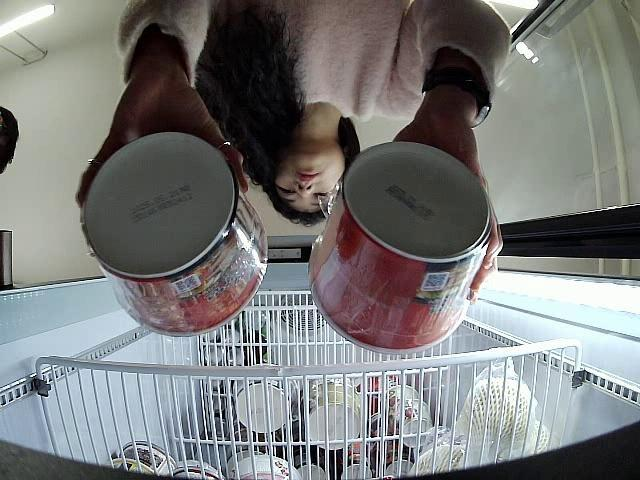01_ShinRamen_L: (306, 142, 492, 355), (83, 133, 270, 336)
